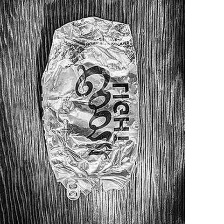can: (34, 9, 150, 204)
